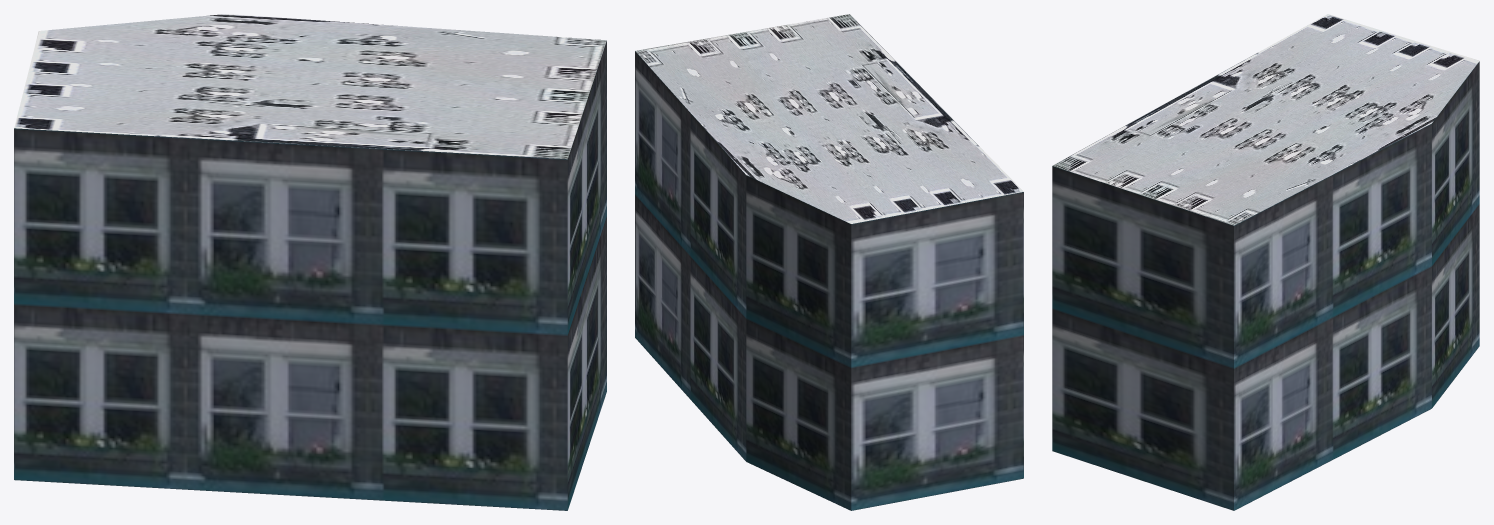
The model's file is ResTex__3574.fbx.
3 views of the same model, side by side, from view 1: azimuth 30°, elevation 25°; view 2: azimuth 150°, elevation 25°; view 3: azimuth 270°, elevation 25° (orthographic). The views are drawn at different scales.
Visible parts, largest first — view 1: CityEngineMaterial_11_m, CityEngineMaterial_4_m; view 2: CityEngineMaterial_11_m, CityEngineMaterial_4_m; view 3: CityEngineMaterial_11_m, CityEngineMaterial_4_m.
Boxes of the visible parts, box(x1,y1,x2,y2) form: CityEngineMaterial_11_m: box(14, 40, 606, 510); CityEngineMaterial_4_m: box(14, 14, 606, 159); CityEngineMaterial_11_m: box(635, 51, 1023, 510); CityEngineMaterial_4_m: box(635, 14, 1023, 223); CityEngineMaterial_11_m: box(1052, 61, 1479, 510); CityEngineMaterial_4_m: box(1052, 14, 1479, 225).
Bounding box in the file's own units: 9.55 × 6 × 8.15.
2 materials, 2 textured.
